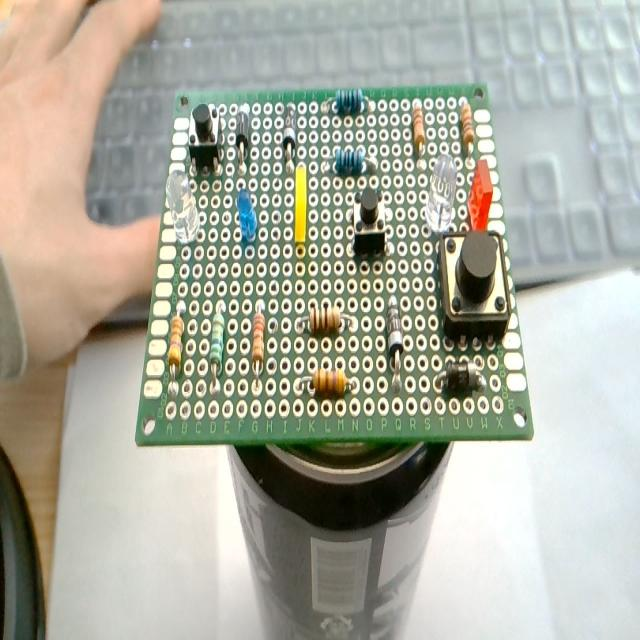diode: (386, 295, 404, 393), (436, 359, 486, 394), (235, 104, 250, 174), (282, 102, 296, 174)
led: (424, 153, 460, 236), (165, 167, 200, 246), (467, 155, 494, 233), (237, 187, 257, 242), (295, 167, 307, 246)
resistor: (410, 100, 469, 157), (209, 302, 226, 392), (312, 367, 349, 397), (309, 301, 340, 335), (334, 146, 369, 176), (252, 300, 266, 374), (168, 313, 184, 372), (334, 88, 365, 115), (460, 102, 474, 148), (412, 103, 425, 151)
switch: (438, 228, 511, 343), (188, 101, 223, 176), (352, 188, 388, 256)
